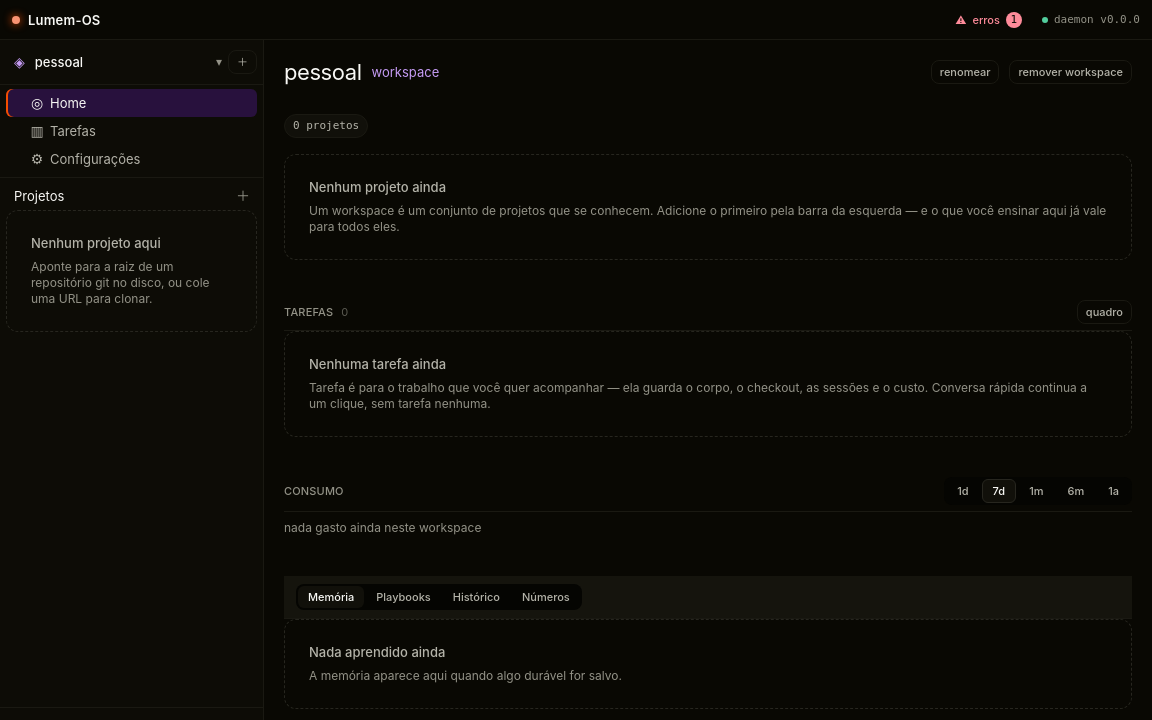
Scenario: o campo que aceita as duas coisas › mostra o motivo da recusa e não deixa clonar
This screenshot has width=1152, height=720.
Click the button named "adicionar projeto" at point(243, 196), box left=231, top=184, right=255, bottom=208
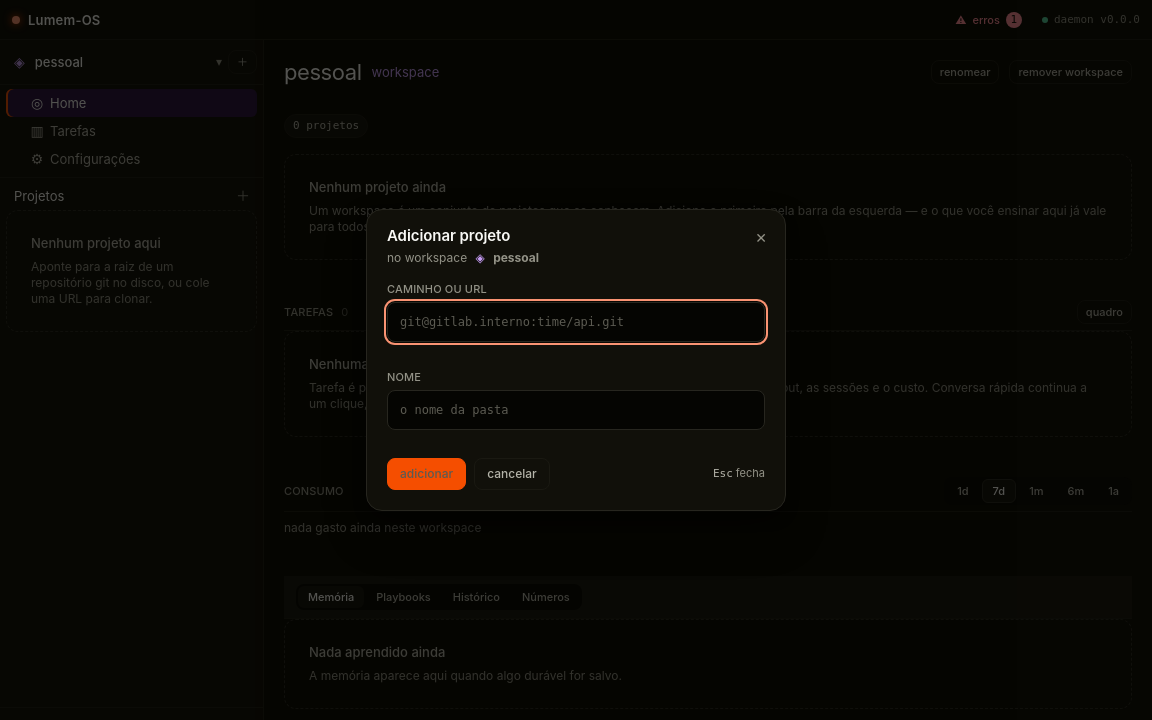
Type "ext::sh -c id" into the field labelled "Caminho ou URL" at point(576, 322), box left=387, top=302, right=765, bottom=342
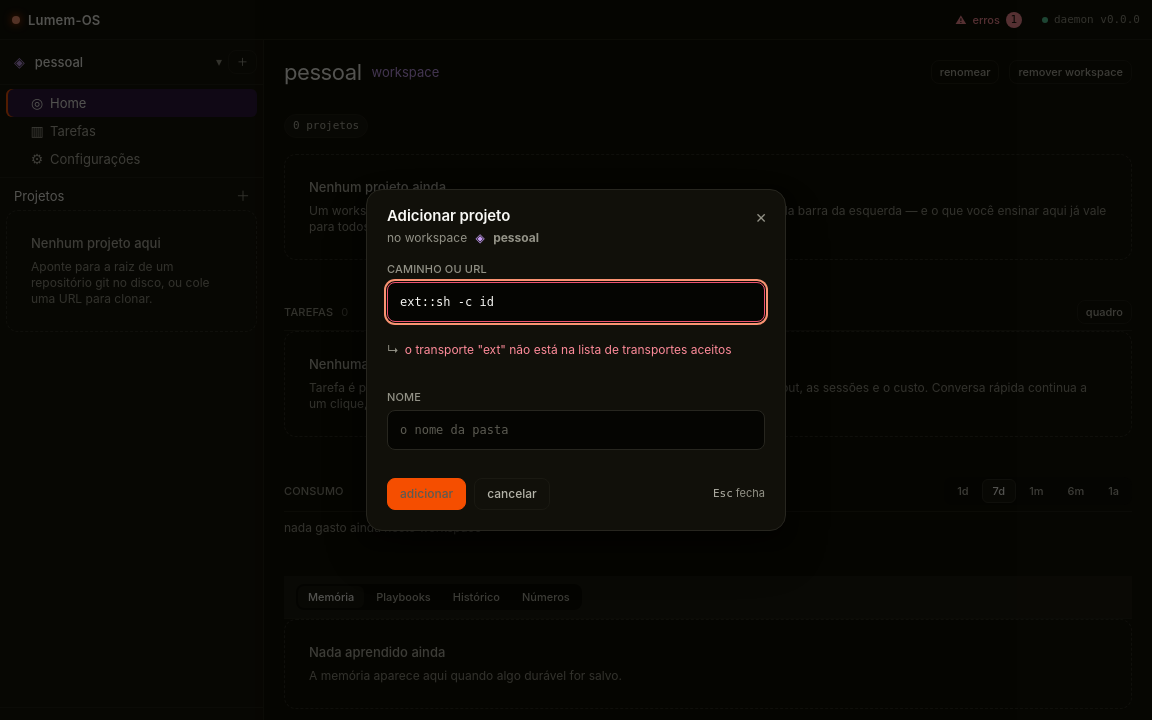
Expected: the button "adicionar" is disabled, left=387, top=478, right=466, bottom=510
Expected: the text "↳ o transporte \"ext\" não está na lista de transportes aceitos" is shown, left=387, top=342, right=765, bottom=358
